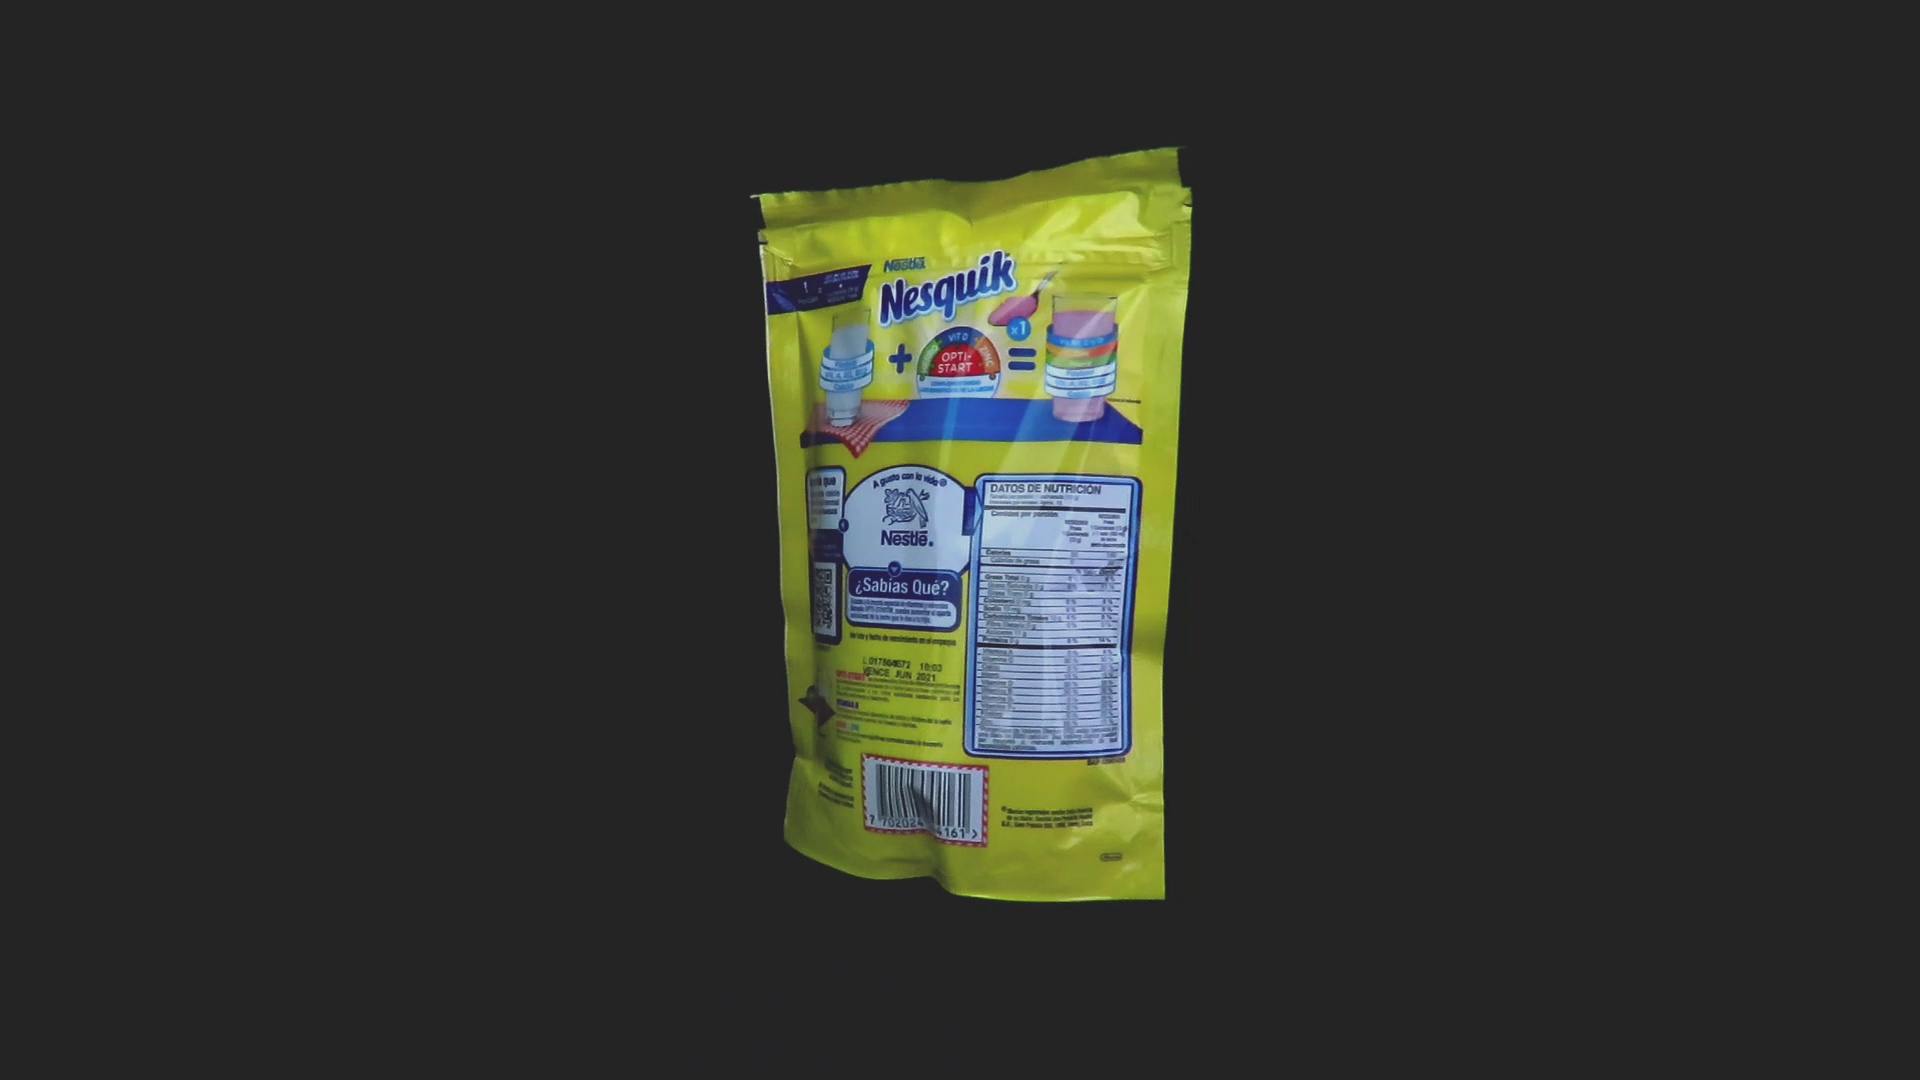COL0170305DYP20000: (745, 140, 1197, 909)
